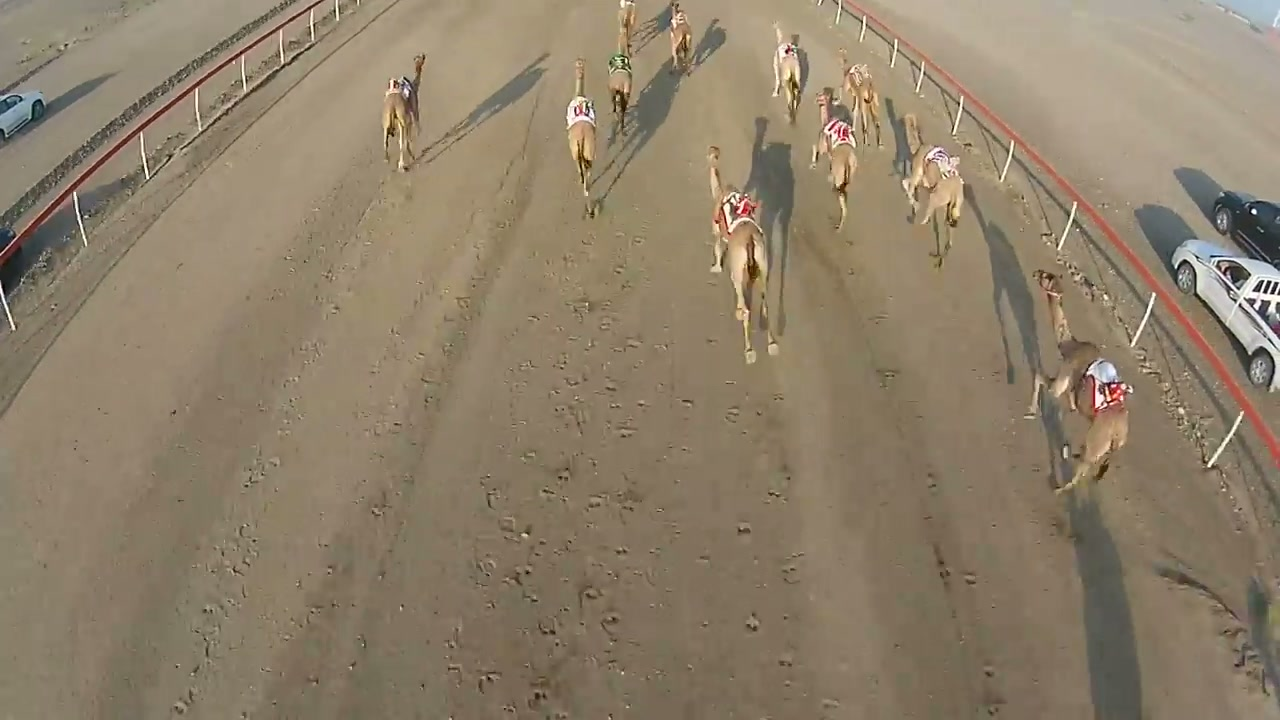animal_footprint: (138, 200, 409, 715), (446, 215, 688, 711), (835, 280, 1019, 711), (690, 346, 846, 715)
